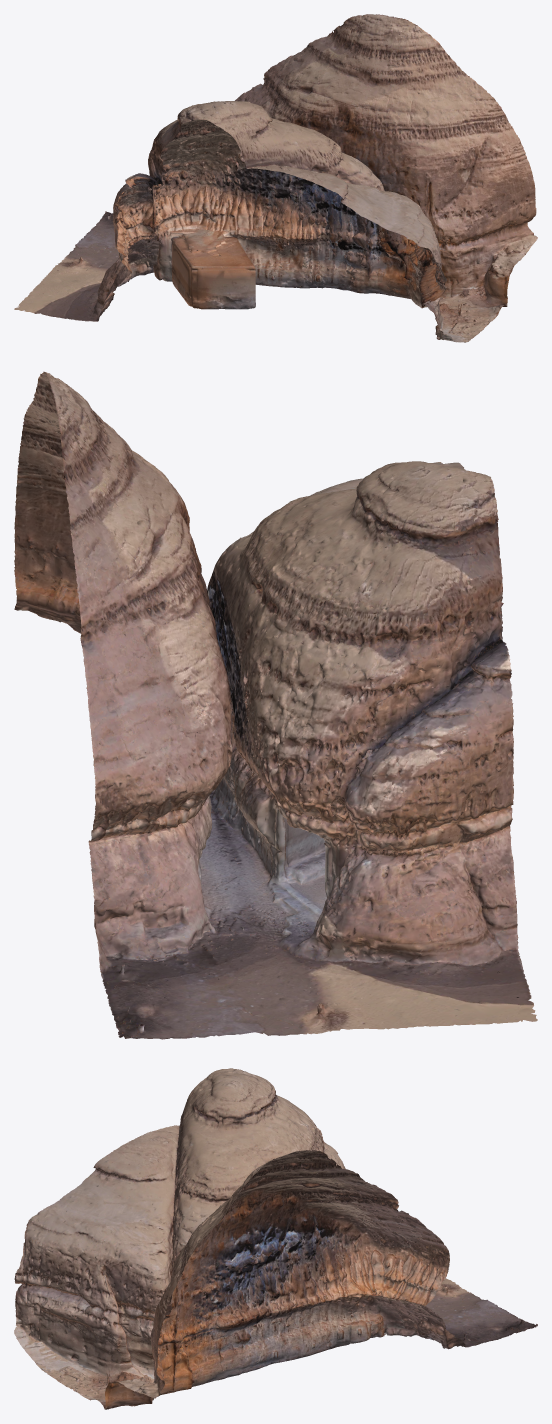
The picture shows the model from 3 angles, top to bottom: view 1: azimuth 30°, elevation 25°; view 2: azimuth 150°, elevation 25°; view 3: azimuth 270°, elevation 25°; orthographic projection. The views are drawn at different scales.
Visible parts, largest first — view 1: SAU_001_M4_Jablithleb_LP; view 2: SAU_001_M4_Jablithleb_LP; view 3: SAU_001_M4_Jablithleb_LP.
Part boxes in pixels (<box>): SAU_001_M4_Jablithleb_LP: <box>14,14,537,342</box>; SAU_001_M4_Jablithleb_LP: <box>14,371,537,1039</box>; SAU_001_M4_Jablithleb_LP: <box>14,1068,537,1409</box>.
Bounding box in the file's own units: 72.57 × 41.99 × 77.57.
1 material, 1 textured.
